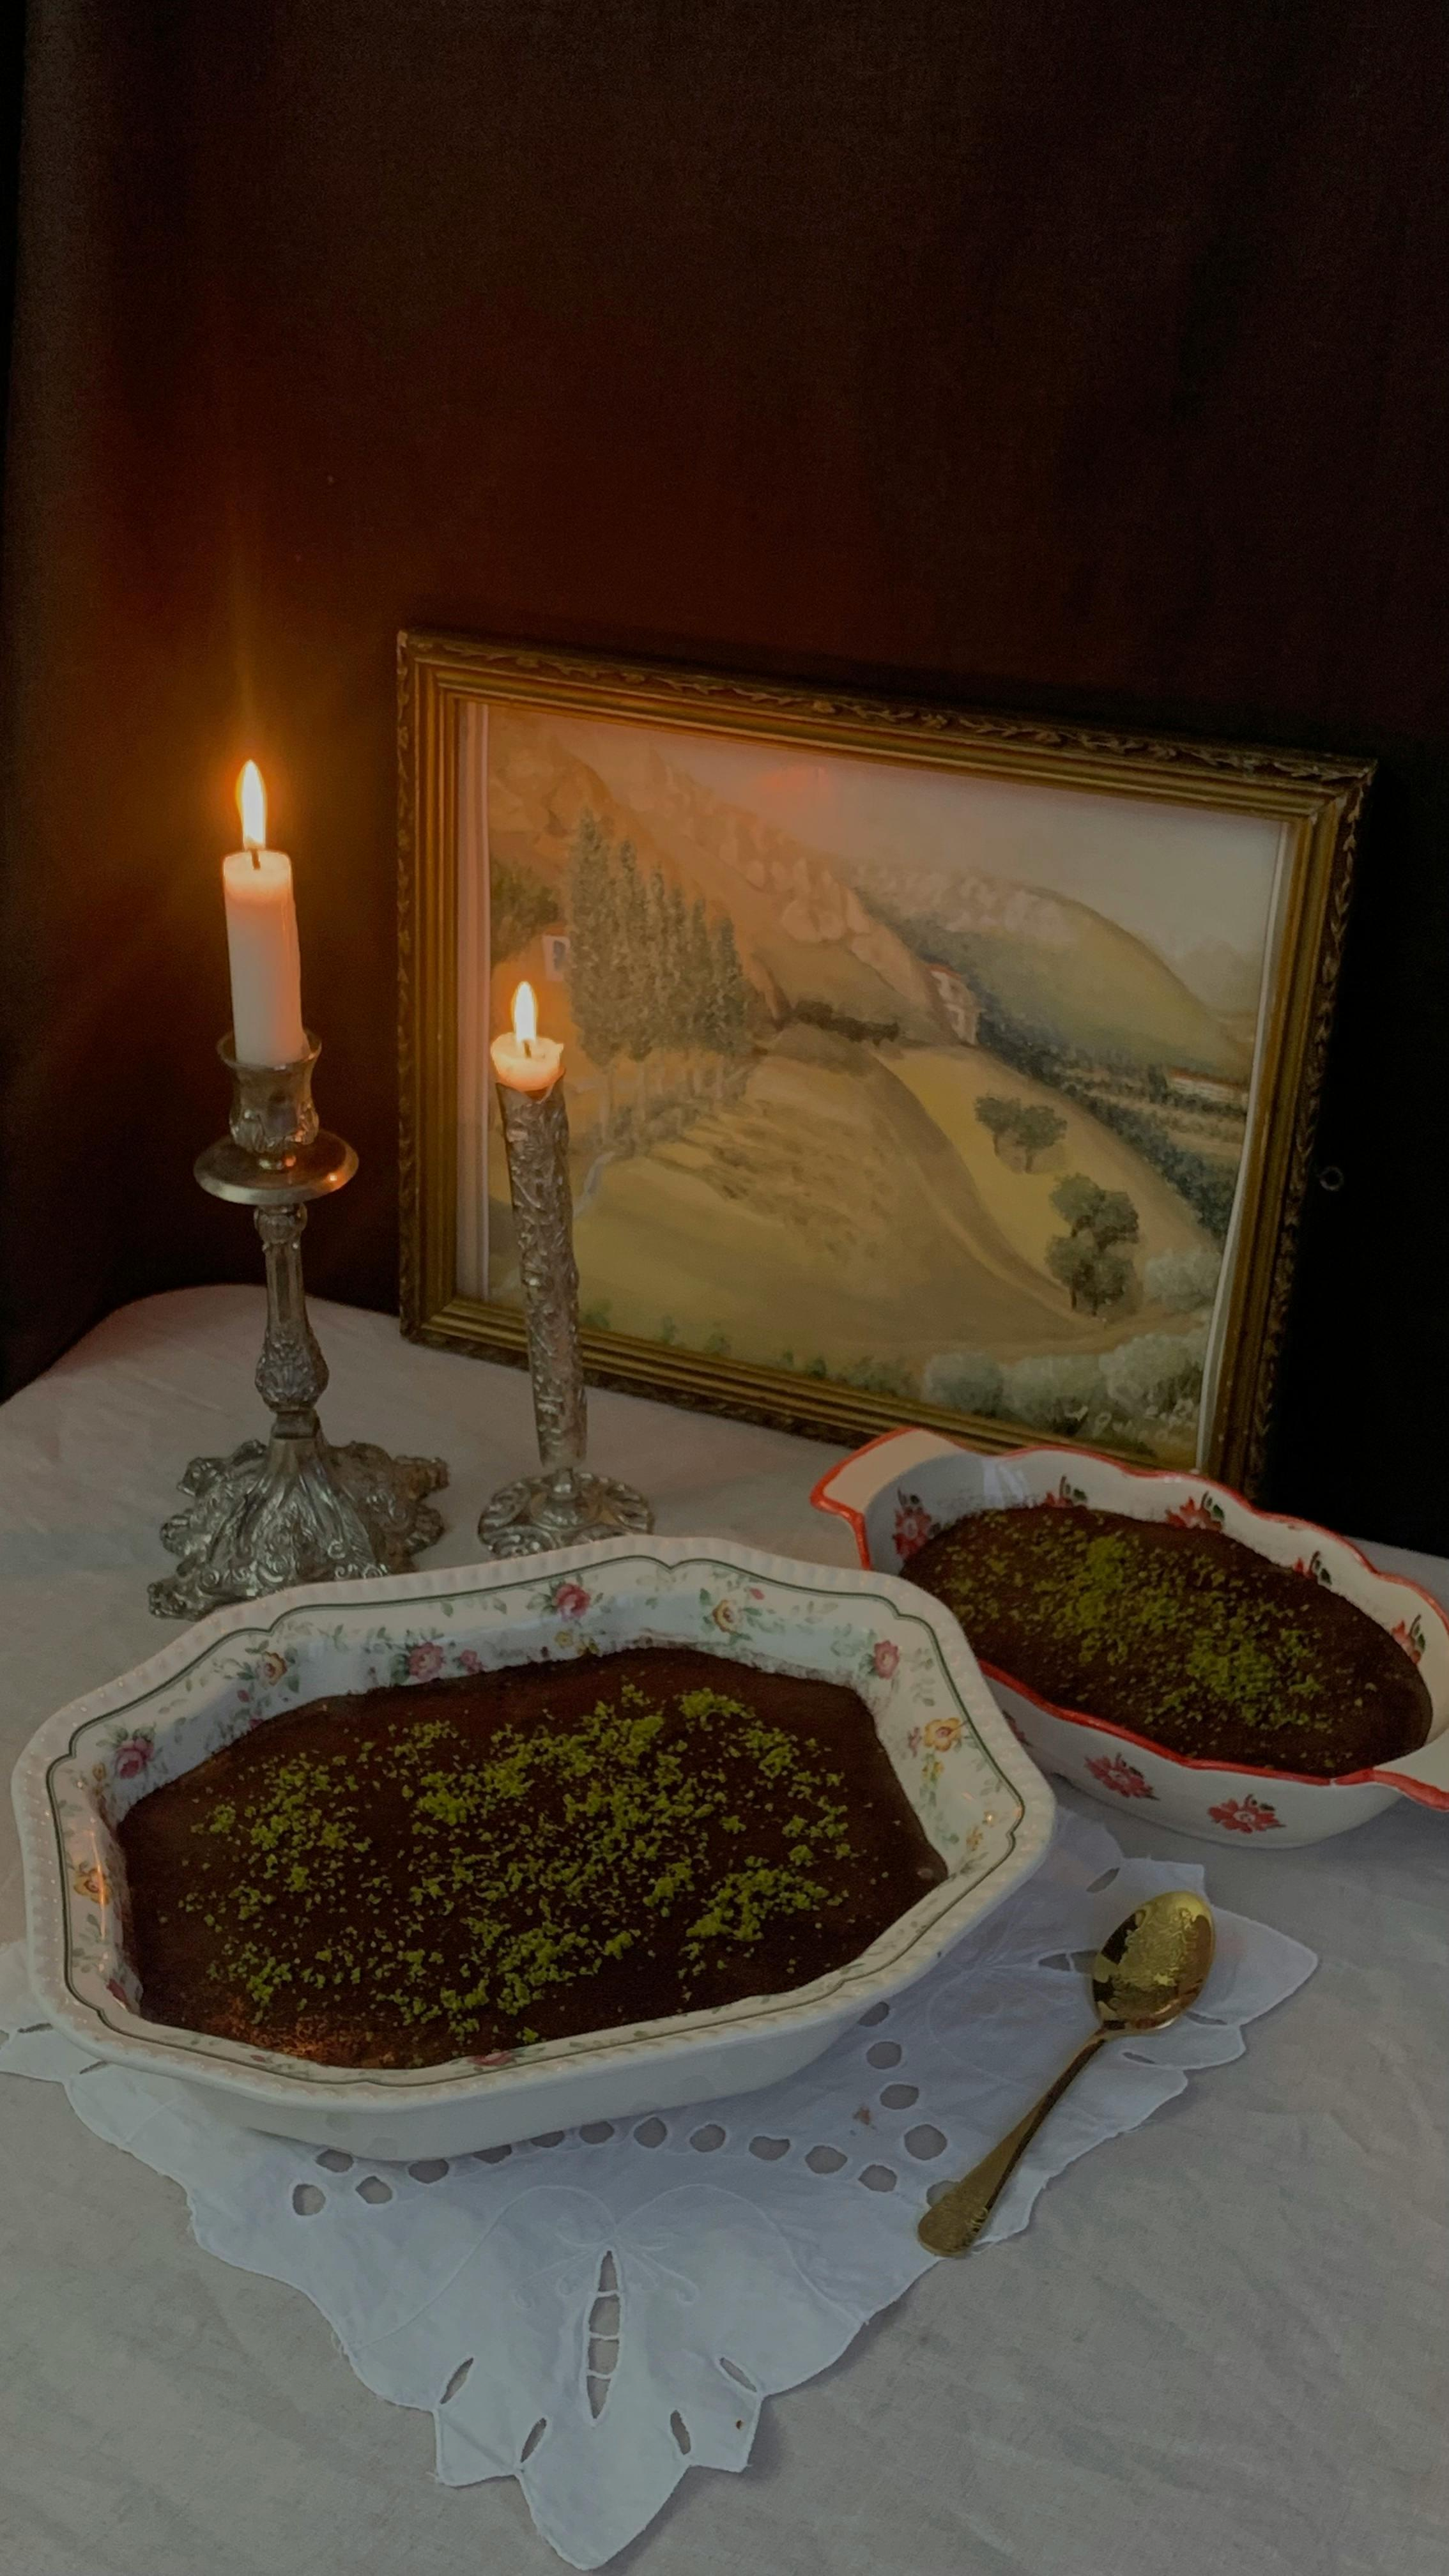Fire: (205, 743, 303, 879), (494, 966, 584, 1088)
